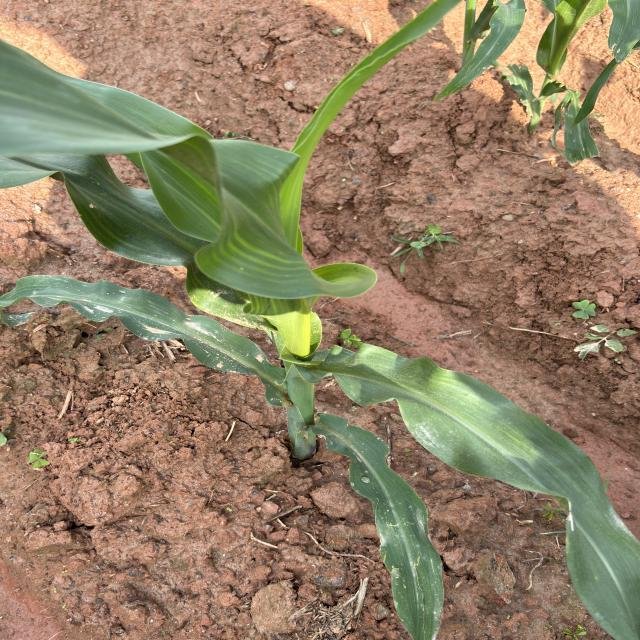maize: (77, 126, 394, 554), (11, 57, 277, 261), (431, 403, 640, 640), (435, 0, 630, 178)
weed: (534, 283, 640, 385), (400, 219, 469, 275)
